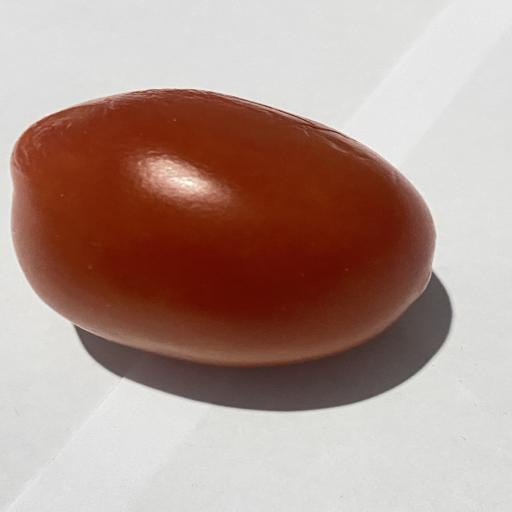spoiled: (11, 90, 435, 366)
